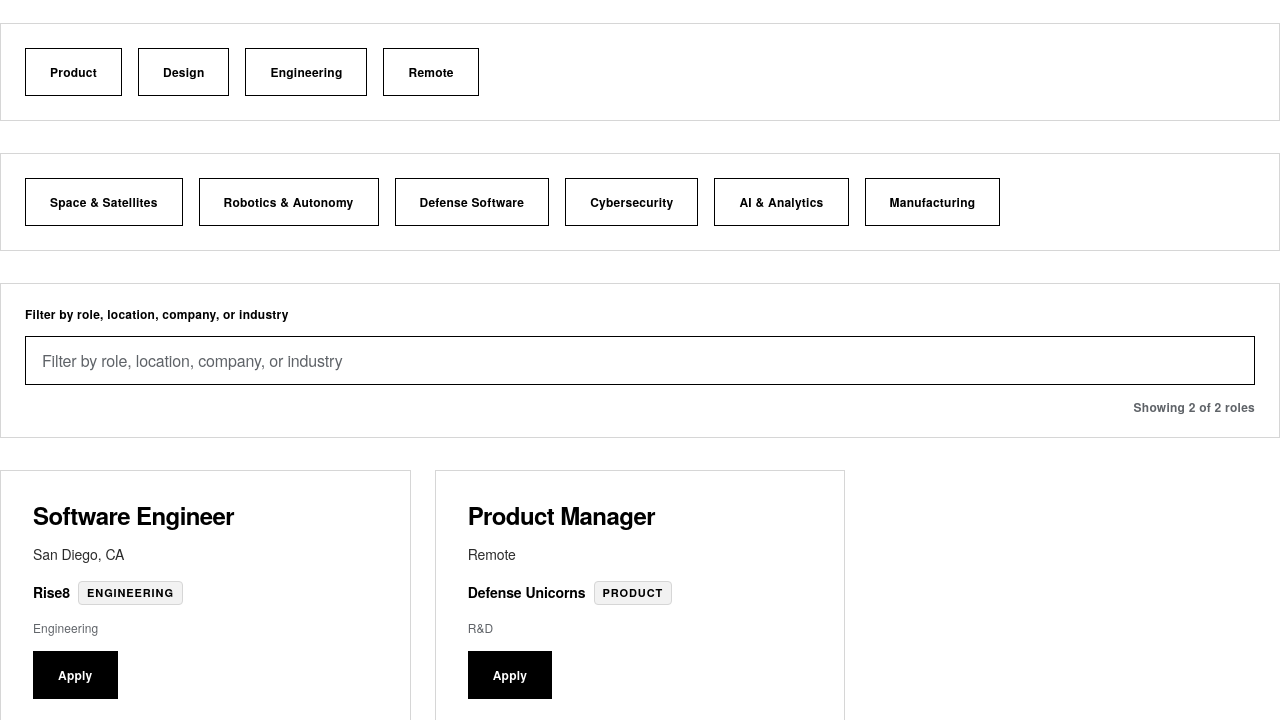
JobsList › filtering › shows no-match state when filter returns no results
(page scrolled)
Expected: the heading "Software Engineer" is shown, [33,498,234,532]
Type "nonexistent" into the search field.
click(640, 361); type("nonexistent")  # box [25,336,1255,385]
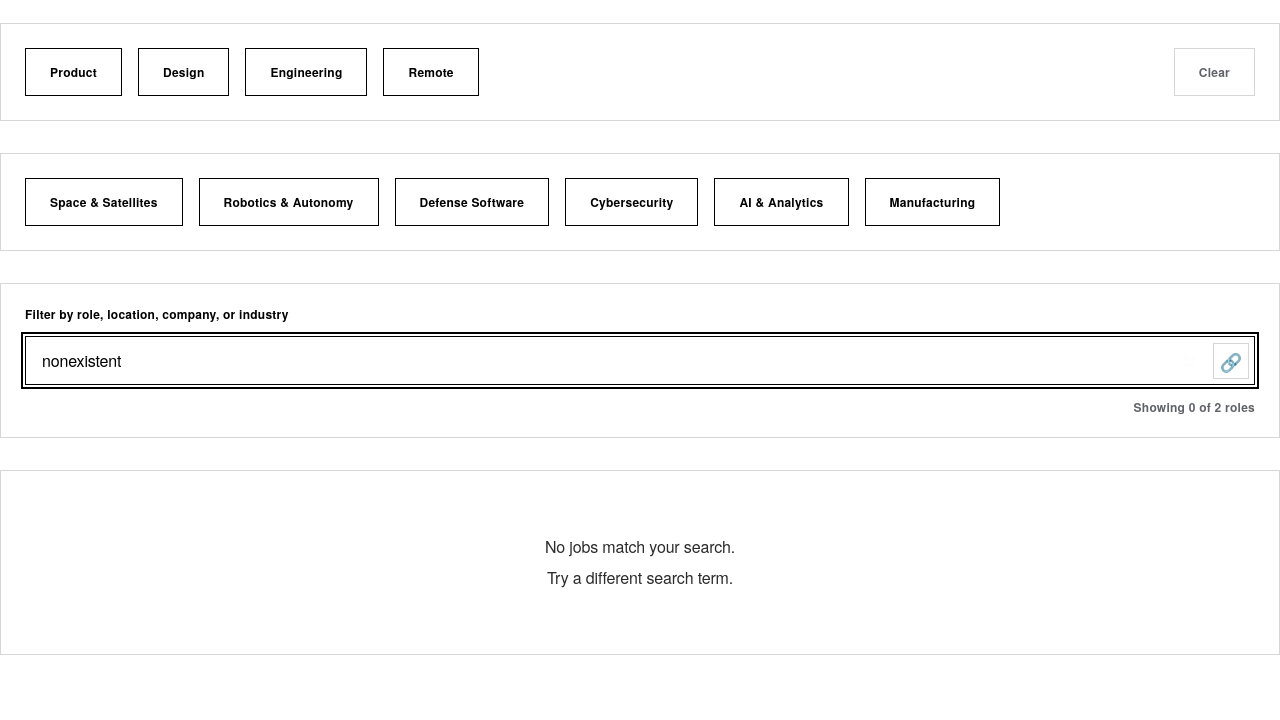
Now the heading "Software Engineer" is gone
Now the text "No jobs match your search." is shown, box [545,535,735,558]
Now the text "Try a different search term." is shown, box [547,566,733,590]
